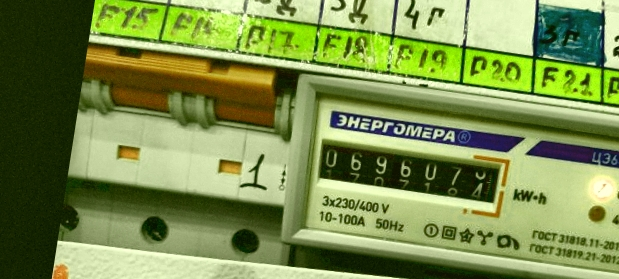0: (421, 158, 439, 182), (321, 145, 339, 168)
4: (468, 178, 484, 201)
6: (346, 148, 363, 171), (396, 156, 413, 178)
7: (445, 163, 463, 187)
9: (371, 152, 387, 175)
screen: (301, 126, 514, 216)
